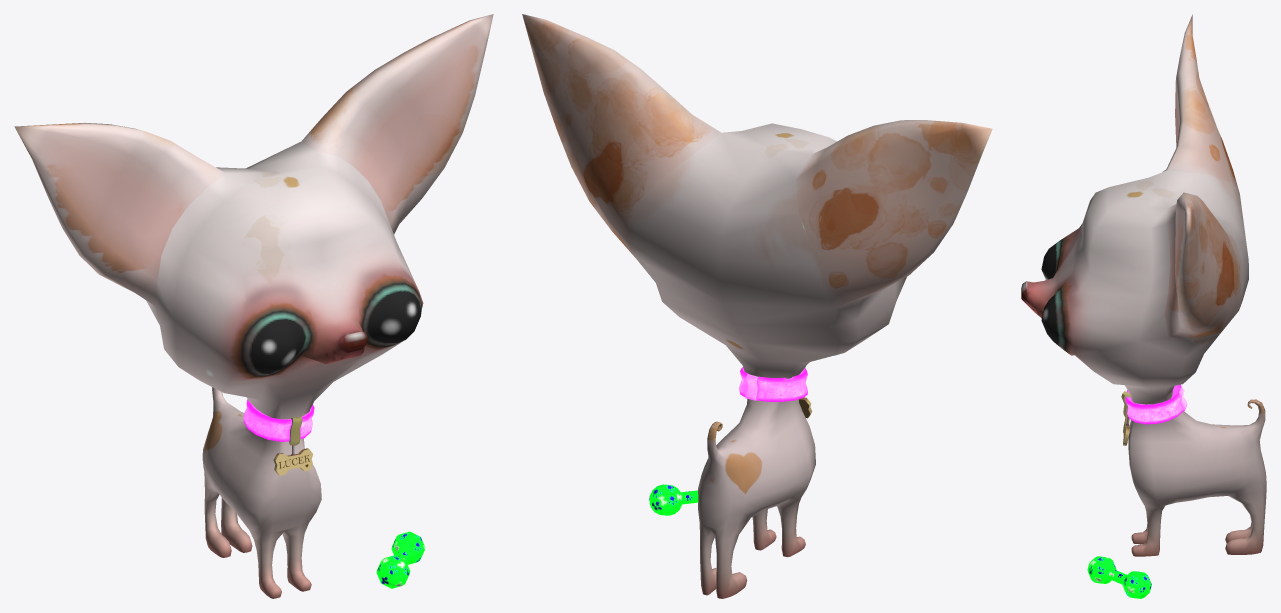
The model's file is lucifer_the_chihuahua_dog.glb.
The picture shows the model from 3 angles, left to right: view 1: azimuth 30°, elevation 25°; view 2: azimuth 150°, elevation 25°; view 3: azimuth 270°, elevation 25°; orthographic projection. The views are drawn at different scales.
Parts seen in each view (by area): view 1: Object_2; view 2: Object_2; view 3: Object_2.
Boxes of the visible parts, left/top/right/bottom form: Object_2: left=14, top=14, right=493, bottom=598; Object_2: left=522, top=14, right=992, bottom=598; Object_2: left=1021, top=14, right=1266, bottom=598.
Bounding box in the file's own units: 2.47 × 2.48 × 1.28.
1 material, 1 textured.
